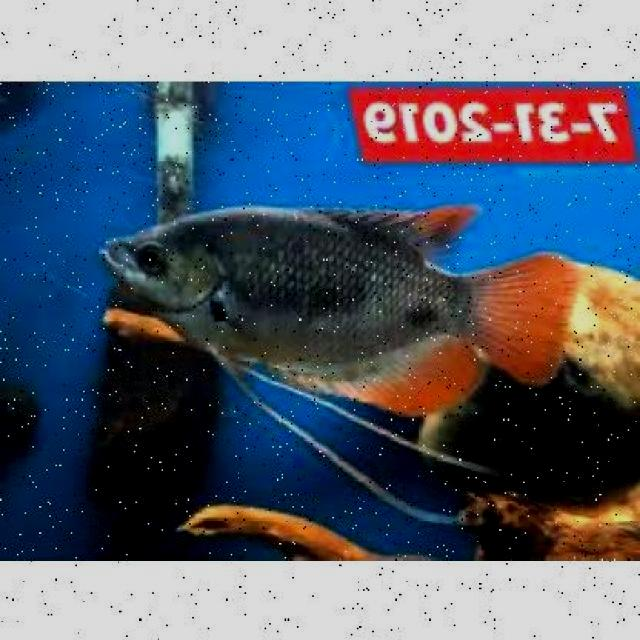gurame: (101, 202, 564, 416)
